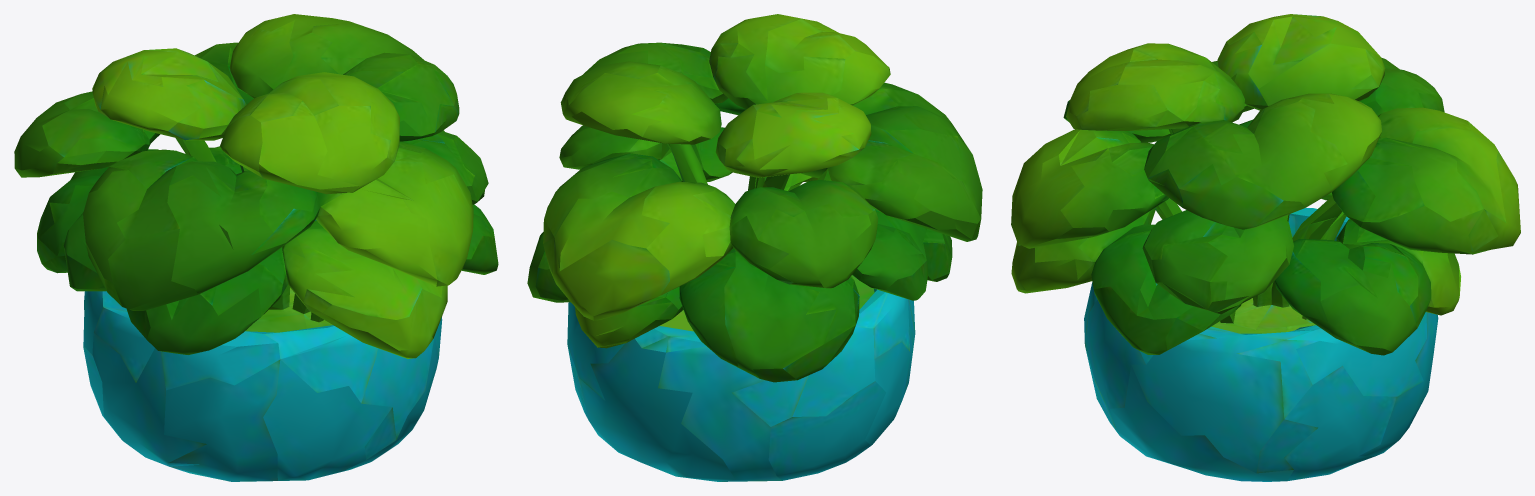
The model's file is ds-plante.glb.
3 views of the same model, side by side, from view 1: azimuth 30°, elevation 25°; view 2: azimuth 150°, elevation 25°; view 3: azimuth 270°, elevation 25° (orthographic). The views are drawn at different scales.
Size of the model in its own units: 1.69 by 1.51 by 1.89.
1 material, 1 textured.
